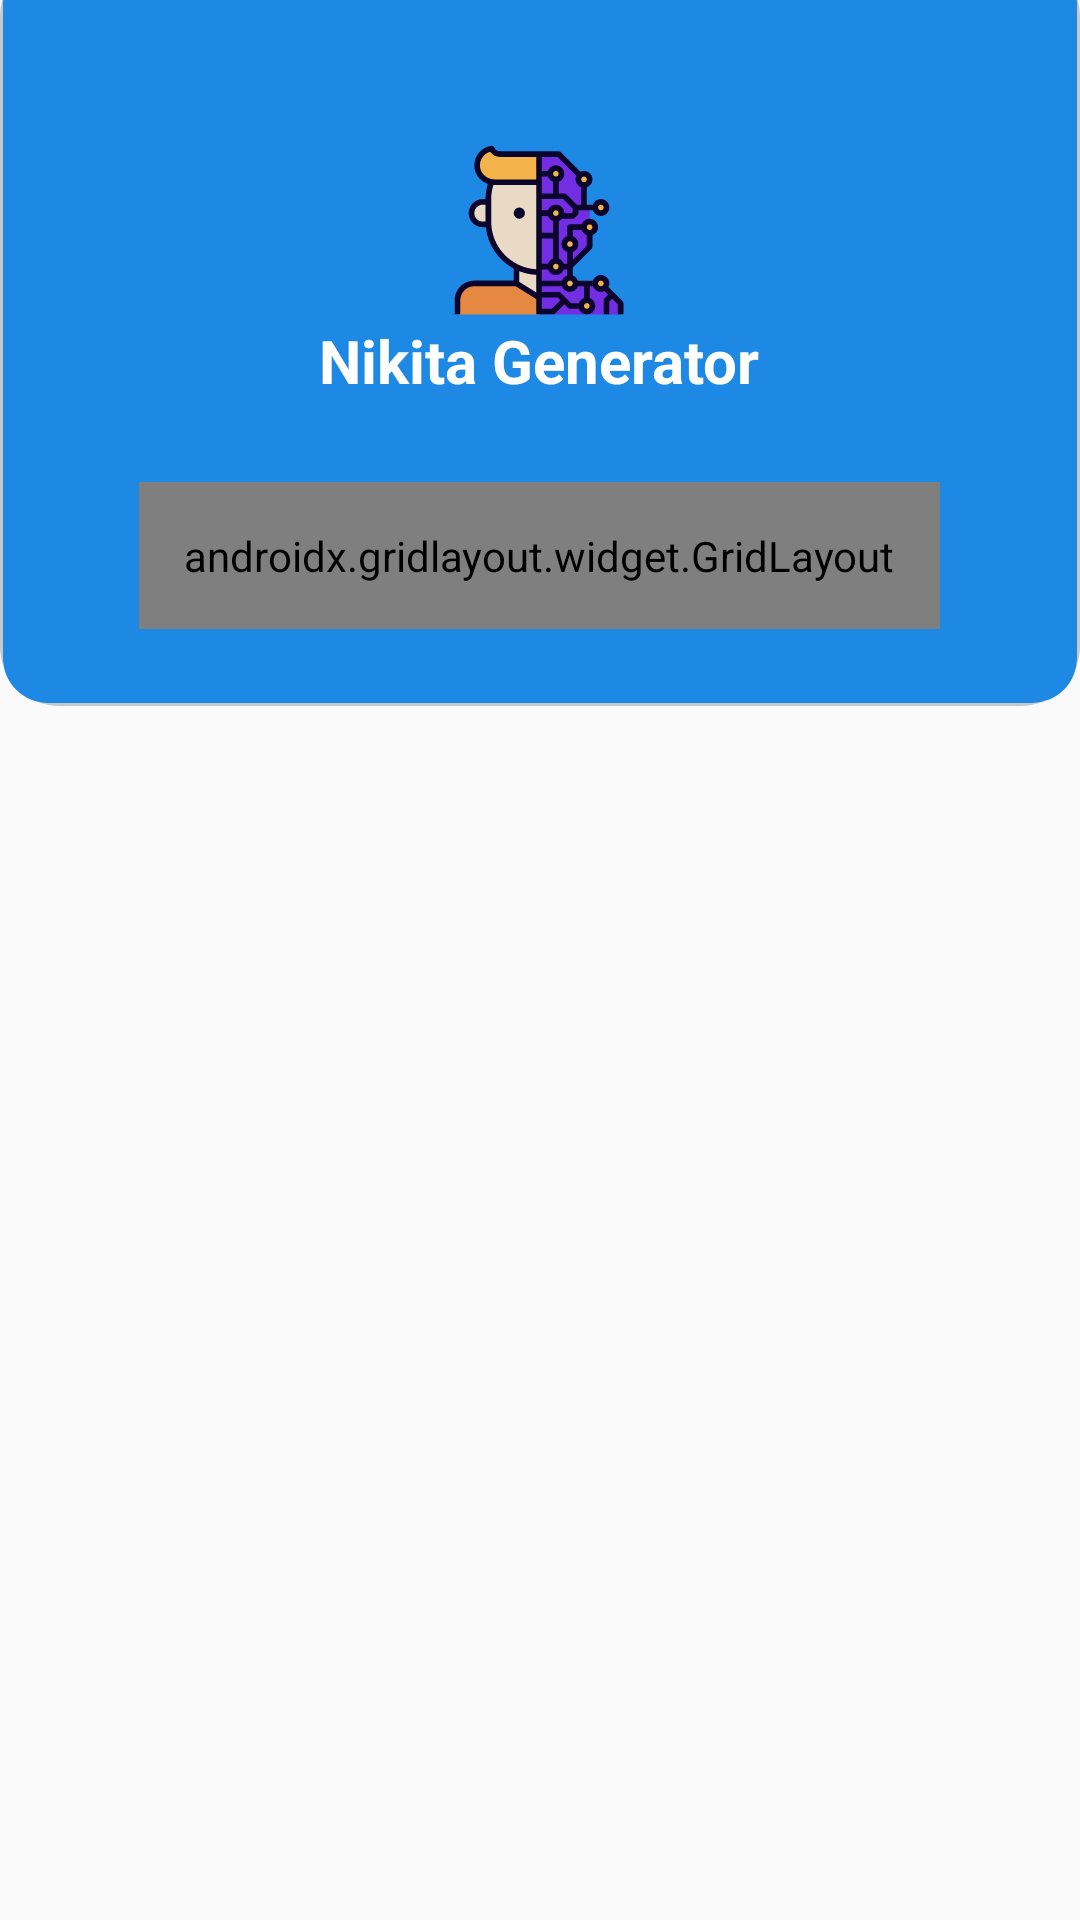

Screen size 1080px x 1920px. Icon name, then its center in pixels as [x,y]:
machine learning: [539,230]
